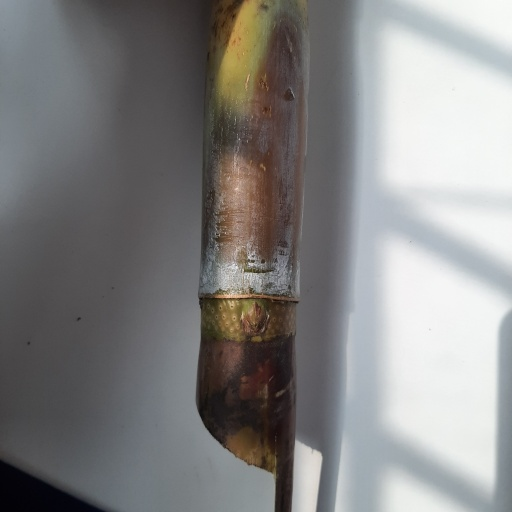Bud: (238, 300, 270, 335)
